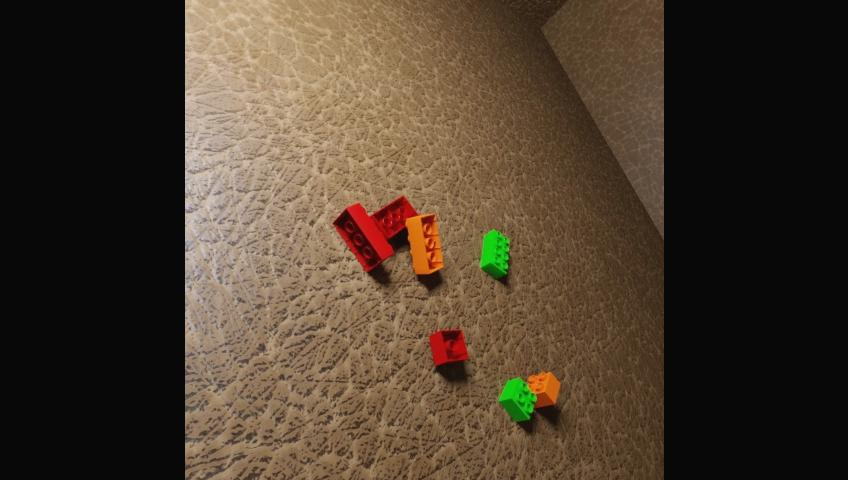2x2_green: (499, 377, 536, 420)
2x2_orange: (527, 372, 560, 407)
2x2_red: (429, 329, 469, 364)
4x2_green: (480, 229, 509, 278)
4x2_orange: (406, 213, 444, 273)
4x2_red: (332, 202, 394, 271), (369, 195, 419, 240)
